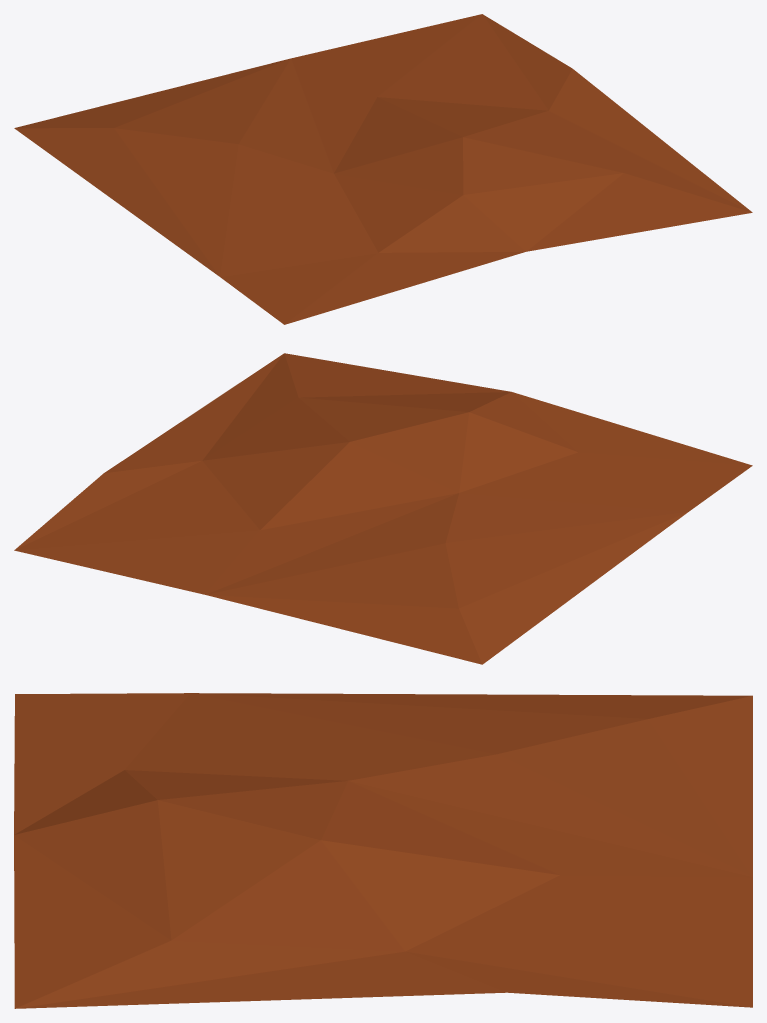
File: LandTile.fbx
3 views of the same model, one above another, from view 1: azimuth 30°, elevation 25°; view 2: azimuth 150°, elevation 25°; view 3: azimuth 270°, elevation 25° (orthographic). The views are drawn at different scales.
Parts seen in each view (by area): view 1: Grid.004; view 2: Grid.004; view 3: Grid.004.
Part boxes in pixels (x1=…): Grid.004: x1=14, y1=14, x2=752, y2=324; Grid.004: x1=14, y1=353, x2=752, y2=664; Grid.004: x1=14, y1=693, x2=752, y2=1008.
Size of the model in its own units: 5995 by 455 by 5999.
